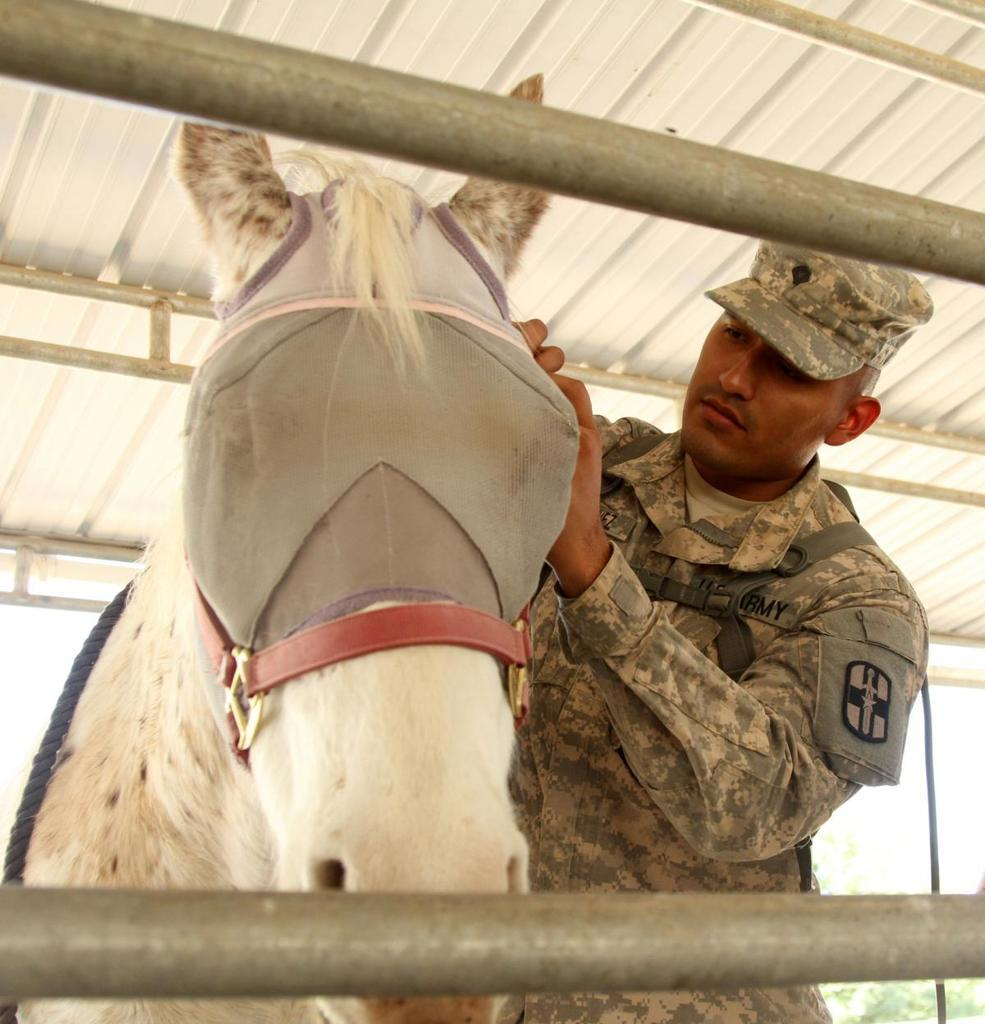Hat: (702, 230, 942, 390)
